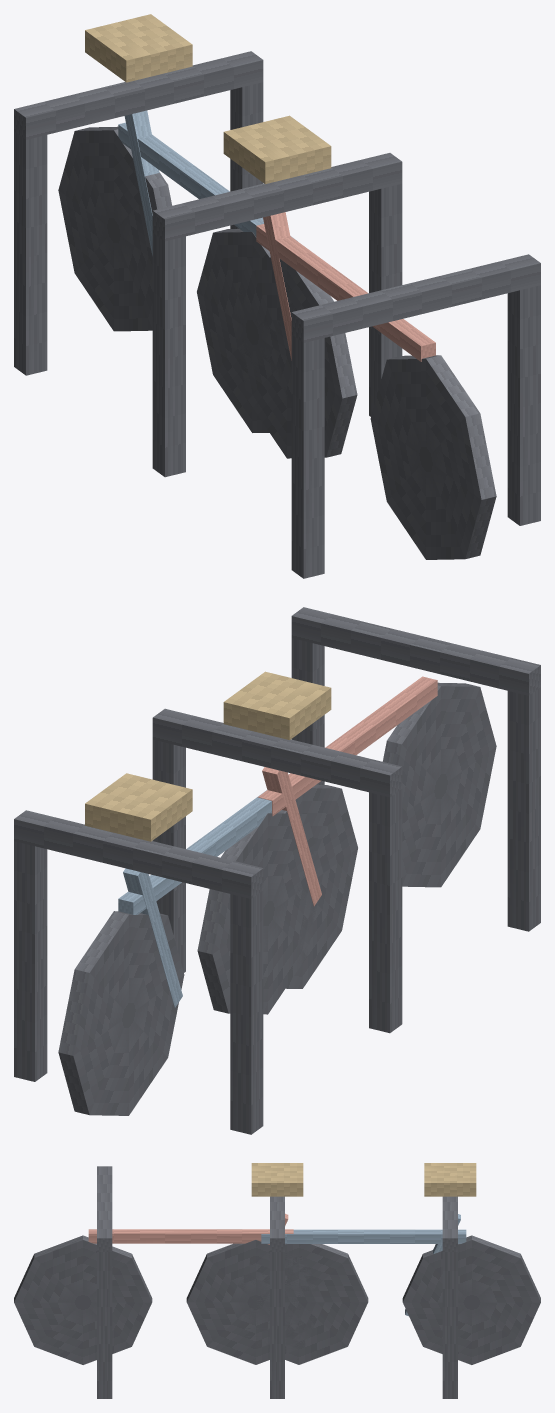
The model's file is pixel-modern-city-street-bike-rack-with-bikes-40e6c384__29040.glb.
The picture shows the model from 3 angles, top to bottom: view 1: azimuth 30°, elevation 25°; view 2: azimuth 150°, elevation 25°; view 3: azimuth 270°, elevation 25°; orthographic projection. The views are drawn at different scales.
Parts seen in each view (by area): view 1: bike-rack-with-bikes; view 2: bike-rack-with-bikes; view 3: bike-rack-with-bikes.
Boxes of the visible parts, x1,y1,x2,y2 form: bike-rack-with-bikes: (14,14,540,578); bike-rack-with-bikes: (14,607,540,1134); bike-rack-with-bikes: (14,1163,540,1398).
Bounding box in the file's own units: 0.79 × 0.97 × 2.44.
4 materials, 4 textured.
